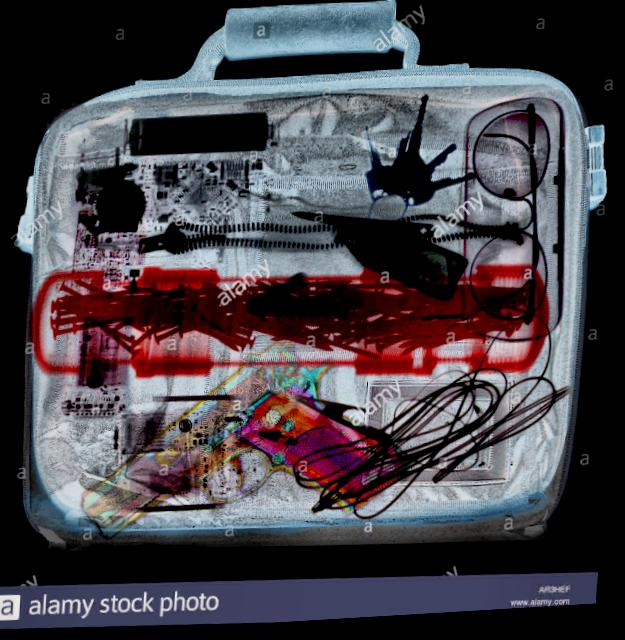pistol: (79, 326, 415, 552)
